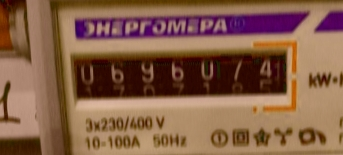0: (77, 59, 97, 83), (199, 54, 216, 80)
4: (257, 53, 274, 76)
5: (259, 78, 275, 93)
6: (170, 55, 188, 81), (109, 58, 127, 83)
7: (229, 55, 247, 80)
9: (139, 57, 156, 83)
screen: (61, 36, 302, 110)
